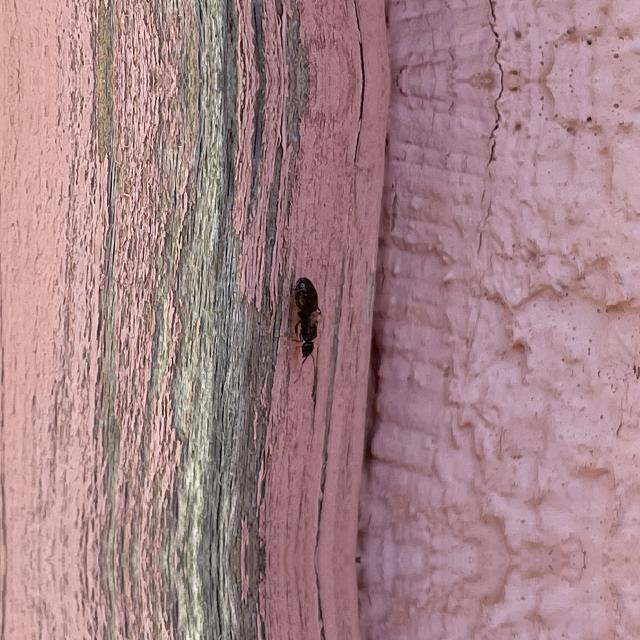Tapinoma: (285, 272, 321, 358)
